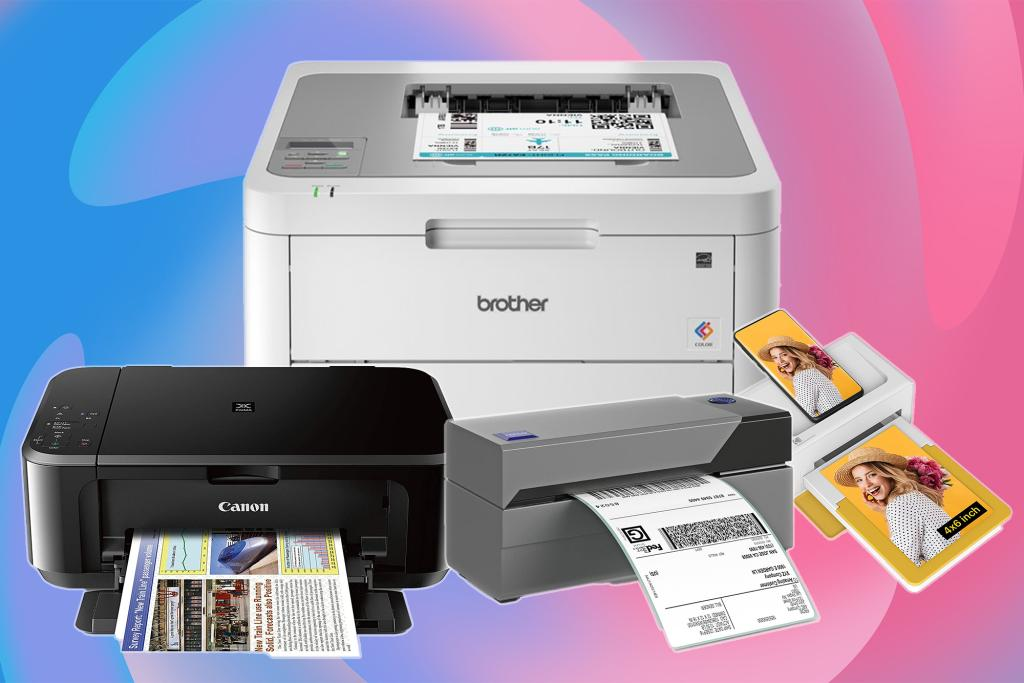printer: (217, 55, 793, 380), (20, 360, 450, 665), (438, 389, 820, 660)
